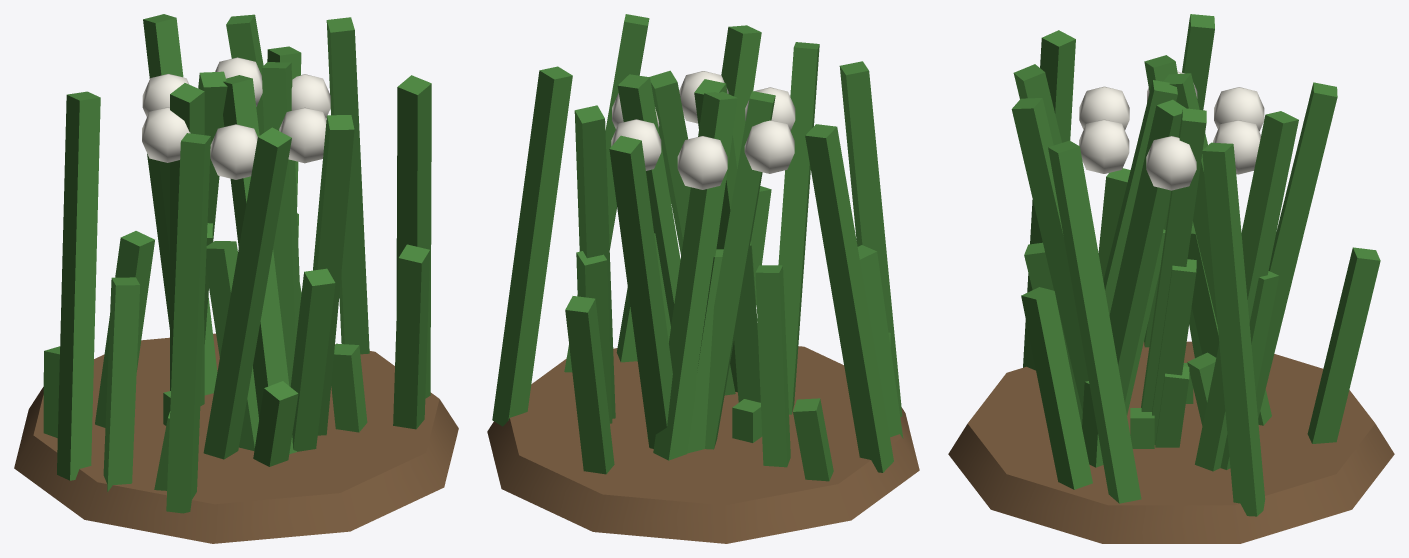
Rendered from crop_cotton.glb.
3 renders of one model, left to right at view 1: azimuth 30°, elevation 25°; view 2: azimuth 150°, elevation 25°; view 3: azimuth 270°, elevation 25°, orthographic. The views are drawn at different scales.
Visible parts, largest first — view 1: stage3, stage0, stage2, stage1; view 2: stage3, stage0, stage2, stage1; view 3: stage3, stage0, stage2, stage1.
Part boxes in pixels (x1,y1,x2,y2): stage3: (57, 14, 431, 513); stage0: (14, 333, 458, 543); stage2: (95, 154, 429, 491); stage1: (43, 343, 367, 490); stage3: (492, 14, 902, 472); stage0: (487, 346, 919, 543); stage2: (565, 186, 903, 474); stage1: (647, 332, 890, 481); stage3: (1011, 14, 1337, 516); stage0: (948, 341, 1394, 543); stage2: (1021, 168, 1380, 489); stage1: (1082, 352, 1216, 467).
Size of the model in its own units: 0.875 by 0.841 by 0.92.
